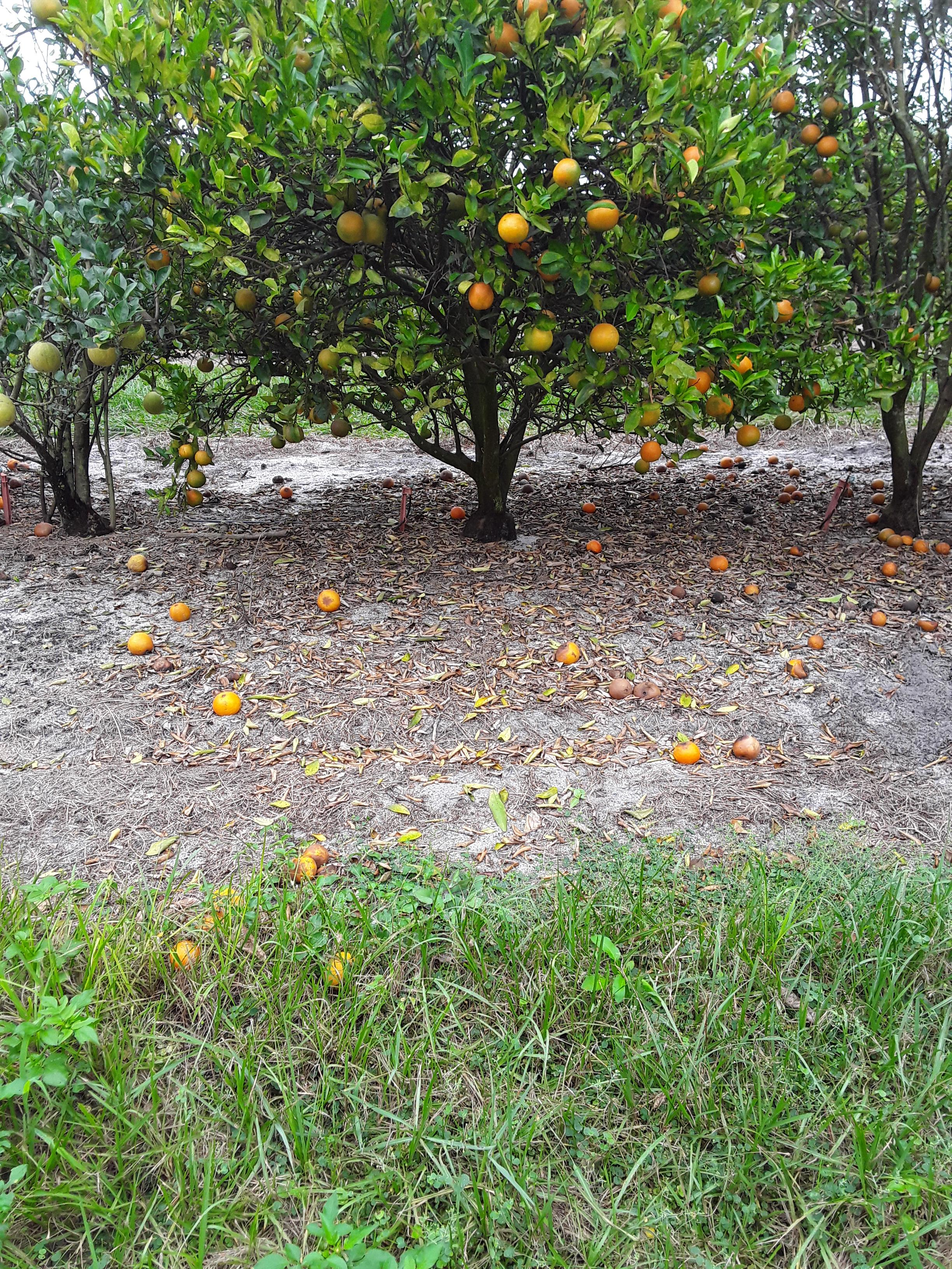fruit_on_ground: (481, 15, 522, 62), (82, 330, 127, 372), (654, 67, 700, 105), (492, 207, 535, 247), (24, 337, 67, 377), (745, 37, 789, 76), (548, 0, 590, 40), (500, 230, 542, 268), (649, 0, 691, 38), (520, 319, 559, 357), (584, 198, 622, 236), (357, 211, 394, 248), (718, 347, 756, 383), (585, 319, 622, 355), (674, 142, 710, 179), (335, 208, 370, 246), (462, 278, 499, 313), (510, 0, 558, 26), (763, 294, 797, 329), (679, 367, 714, 401), (537, 251, 569, 287), (550, 155, 584, 188), (700, 392, 737, 422), (763, 87, 798, 118), (140, 242, 175, 271), (24, 0, 67, 23), (632, 399, 663, 429), (314, 344, 343, 376), (734, 421, 765, 449), (694, 272, 726, 299), (268, 309, 299, 336), (140, 388, 168, 417), (289, 285, 317, 313), (817, 94, 846, 121), (637, 439, 666, 464), (798, 120, 824, 147), (327, 416, 355, 441), (0, 390, 17, 431), (230, 286, 256, 311), (698, 358, 722, 385), (783, 390, 808, 415), (815, 135, 841, 159), (188, 273, 211, 300), (770, 408, 795, 432), (193, 350, 217, 375), (283, 421, 307, 446), (920, 272, 946, 295), (183, 467, 209, 489), (189, 446, 214, 468), (810, 164, 833, 187), (182, 486, 206, 508), (899, 324, 920, 347), (306, 406, 331, 425), (176, 439, 197, 461), (800, 379, 822, 400), (629, 457, 652, 477), (266, 431, 288, 451), (852, 229, 870, 247)
fruit_on_tree: (320, 948, 359, 992), (168, 939, 203, 970), (732, 732, 761, 763), (212, 689, 242, 718), (284, 855, 317, 880), (300, 844, 332, 869), (672, 739, 701, 766), (632, 677, 660, 702), (127, 632, 155, 656), (553, 641, 581, 664), (607, 677, 634, 700), (316, 589, 342, 612), (168, 600, 191, 623), (125, 553, 149, 575), (784, 659, 808, 680), (708, 553, 728, 572), (31, 521, 53, 538), (869, 609, 888, 628), (806, 633, 826, 651), (877, 526, 896, 544), (911, 538, 931, 554), (934, 539, 951, 557), (880, 561, 898, 578), (886, 532, 903, 549), (585, 538, 602, 555), (449, 505, 466, 521), (864, 510, 880, 526), (789, 543, 805, 558), (869, 491, 886, 505), (670, 585, 687, 599), (742, 583, 760, 596), (581, 500, 597, 514), (789, 489, 804, 503), (719, 456, 735, 469), (782, 482, 798, 495), (869, 478, 886, 490), (380, 476, 395, 489), (899, 534, 915, 546), (7, 477, 23, 489), (279, 486, 293, 499), (439, 469, 454, 481), (15, 461, 31, 472), (777, 492, 791, 504), (6, 458, 20, 470), (787, 466, 802, 477), (766, 454, 780, 465), (521, 484, 535, 495), (695, 501, 708, 512), (704, 472, 717, 482), (516, 471, 529, 481), (665, 457, 676, 468), (648, 490, 660, 500), (675, 506, 688, 515), (655, 464, 667, 473), (698, 444, 709, 453), (733, 454, 744, 463)
